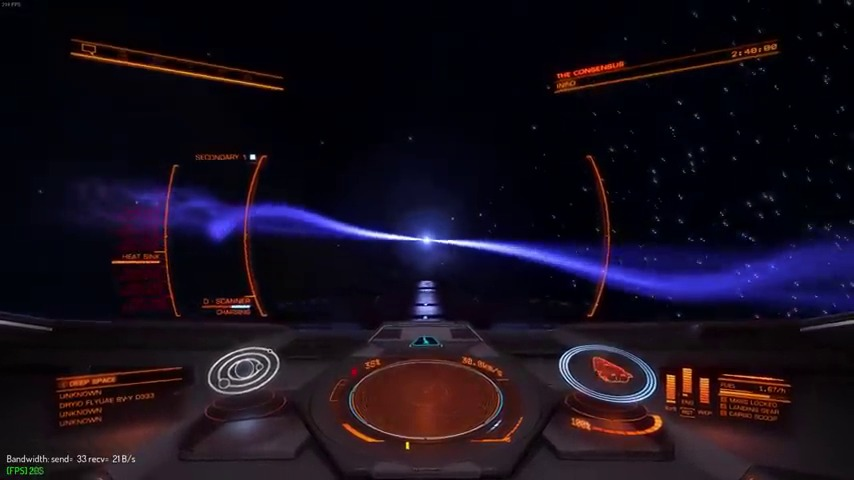jetcone: (451, 226, 846, 316), (119, 185, 406, 257)
